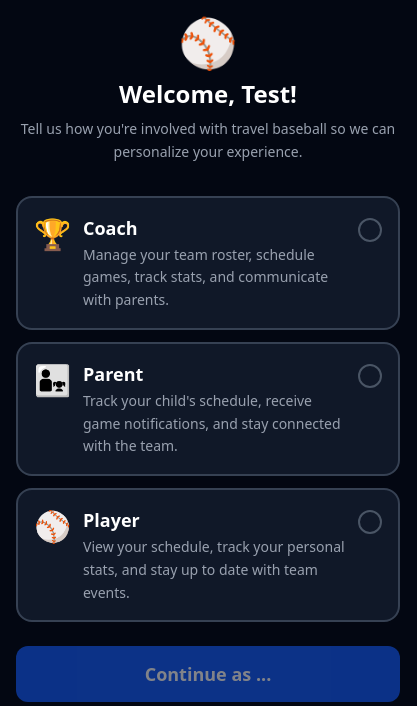
Test: OnboardingPage › after PARENT role assigned shows join team next step
Click the button with aria-label "select parent role": [208, 409] box [16,342,400,476]
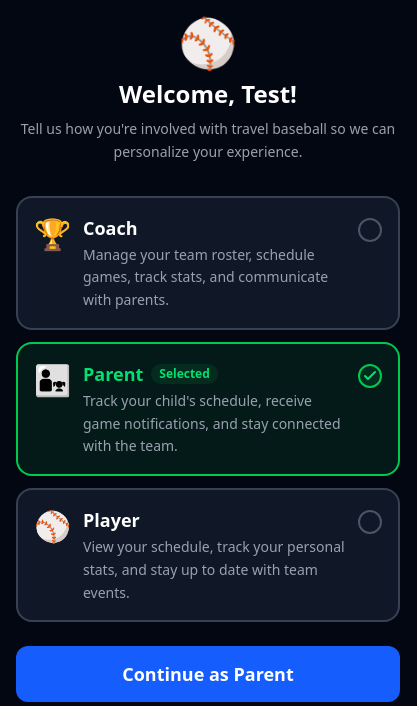
Click the button "Continue as Parent": [208, 674] box [16,646,400,702]
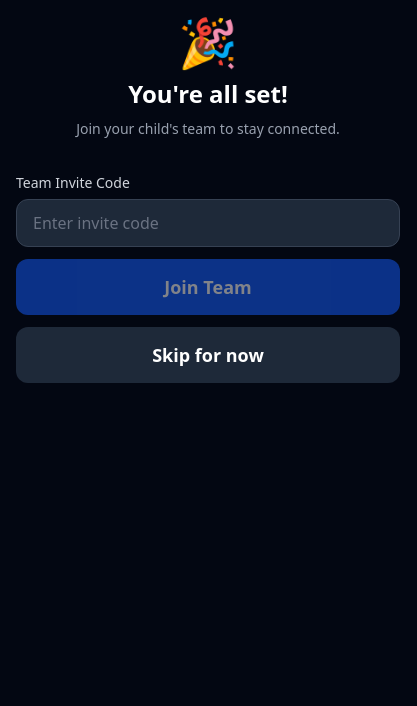
Check: the button "Join Team" is shown, box [16,259,400,315]
